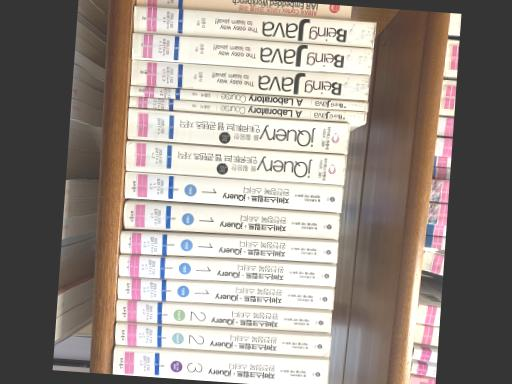book-spine: (133, 6, 375, 48), (130, 32, 372, 74), (129, 60, 369, 101), (126, 109, 348, 153), (125, 141, 344, 185), (123, 172, 341, 213), (122, 203, 339, 240), (112, 348, 328, 384), (115, 301, 331, 334), (116, 278, 333, 310), (114, 324, 329, 356), (119, 232, 337, 263), (117, 256, 335, 286), (129, 86, 366, 111), (128, 97, 365, 122), (135, 0, 350, 20)
